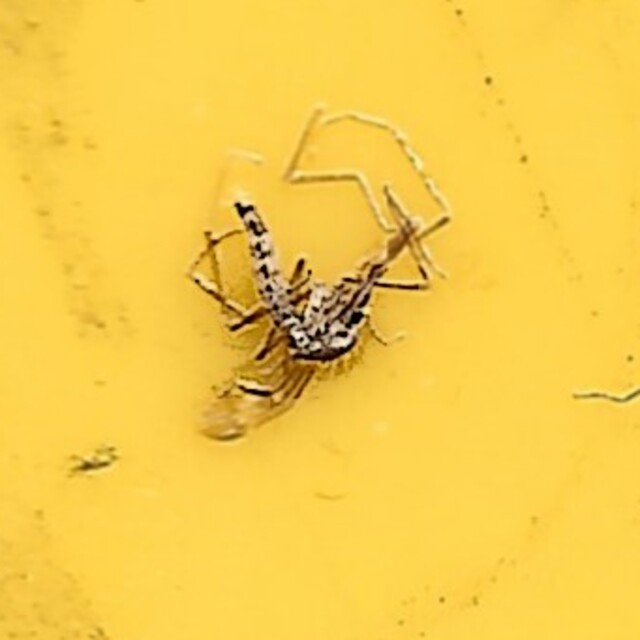Nematocera: (188, 192, 452, 448)
